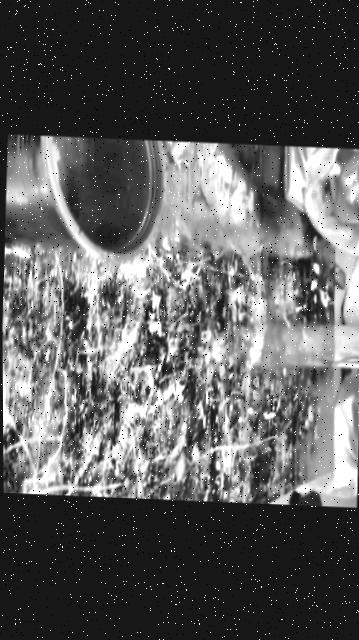pot: (3, 134, 165, 262)
